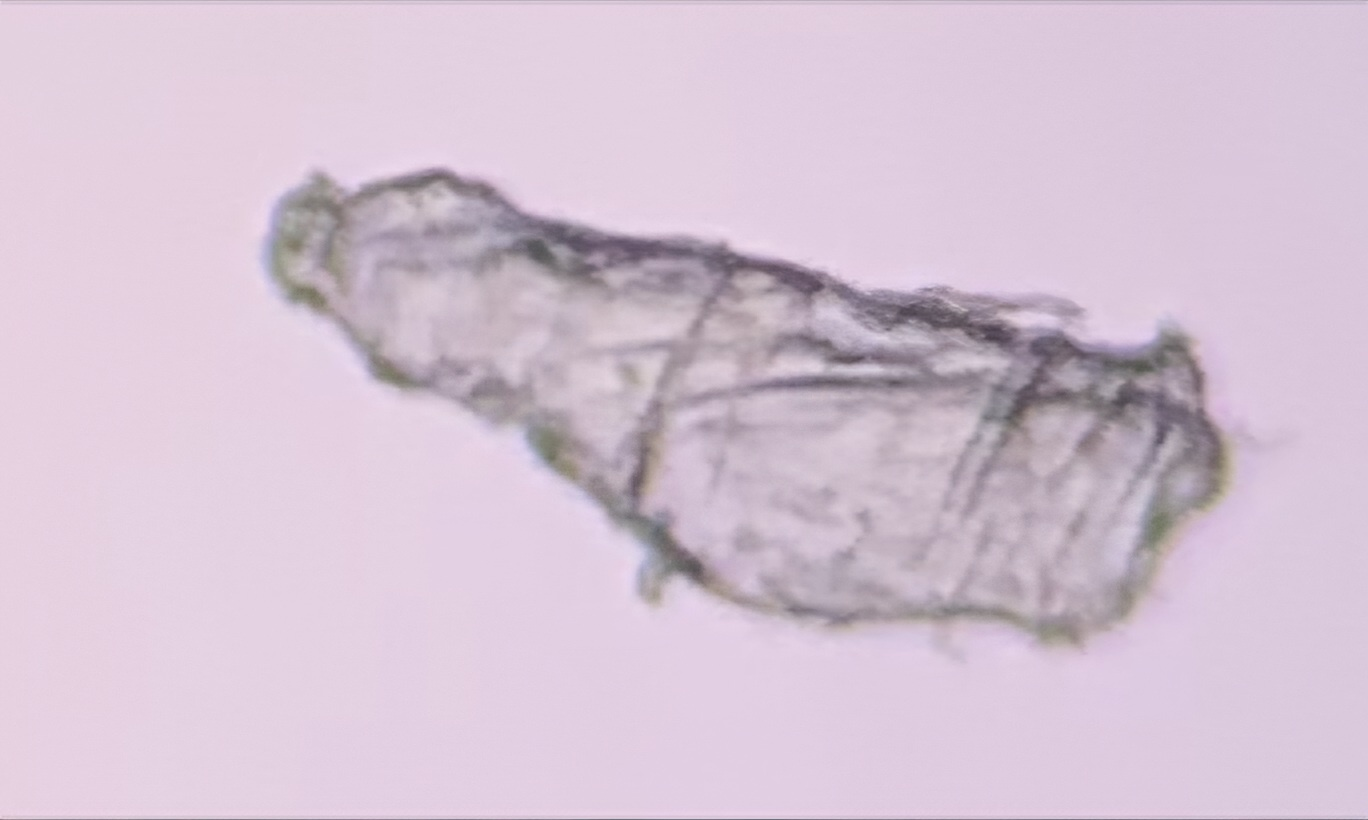microplastic: (260, 160, 1230, 669)
